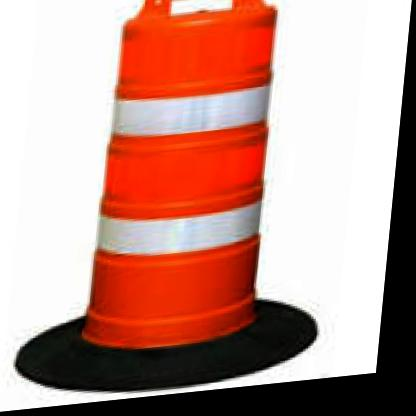obstacle: (74, 0, 315, 373)
